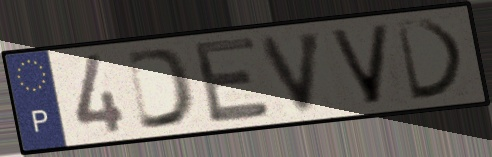4: (71, 49, 128, 138)
D: (392, 17, 469, 104), (123, 45, 198, 133)
E: (189, 33, 274, 127)
V: (255, 27, 327, 116), (325, 22, 395, 108)
